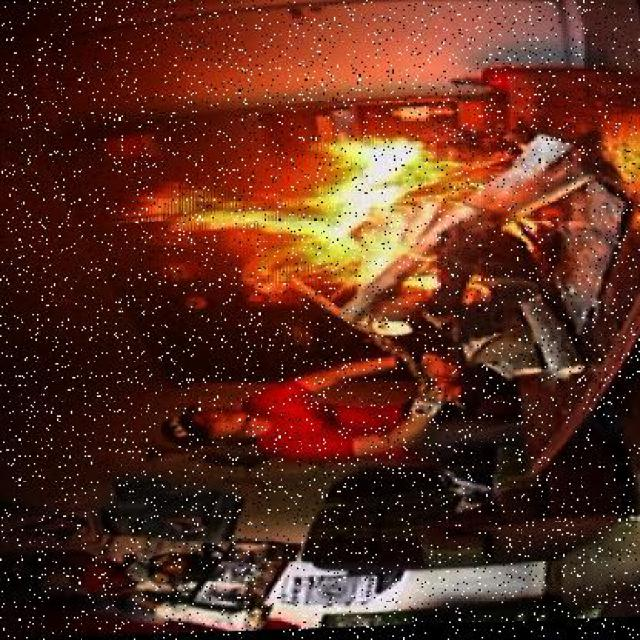fire: (134, 82, 457, 325)
